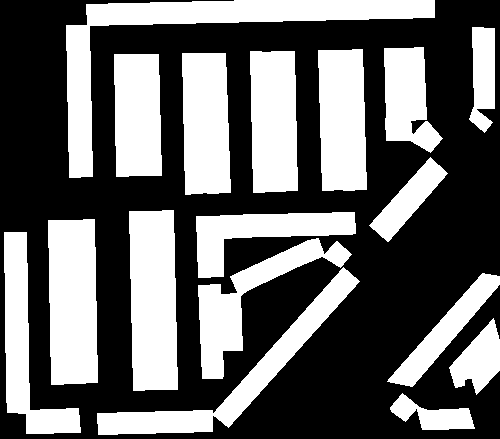parkingspot: (212, 267, 359, 427), (387, 273, 500, 386), (86, 0, 434, 25), (369, 157, 447, 241), (230, 238, 324, 296), (129, 211, 156, 390), (150, 210, 177, 389), (48, 220, 76, 384), (4, 232, 29, 413), (71, 219, 97, 383), (66, 25, 92, 177), (318, 50, 345, 190), (182, 53, 208, 194), (250, 51, 276, 192), (340, 49, 366, 190), (204, 53, 230, 193), (271, 51, 297, 191), (449, 318, 500, 387), (220, 212, 355, 238), (114, 54, 140, 176), (135, 54, 161, 175), (97, 410, 212, 434), (198, 284, 223, 378), (472, 27, 494, 108), (403, 47, 426, 120), (196, 216, 223, 277), (384, 48, 406, 120), (469, 343, 500, 394), (26, 408, 80, 433), (416, 406, 474, 429), (219, 293, 242, 350), (408, 121, 442, 152), (390, 393, 418, 421), (322, 241, 351, 267), (385, 118, 412, 140), (469, 107, 492, 132)
